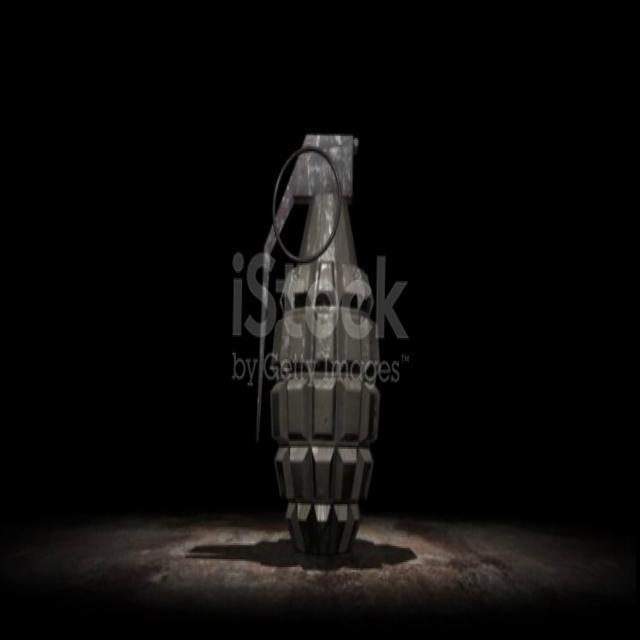grenade: (254, 122, 387, 558)
